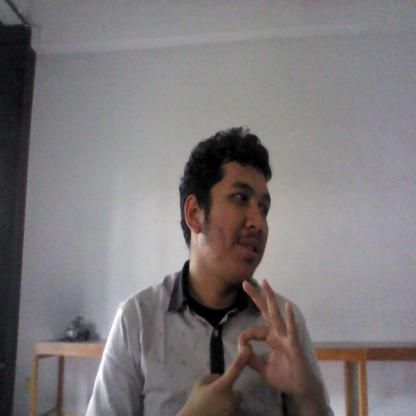Q: (193, 276, 312, 416)
